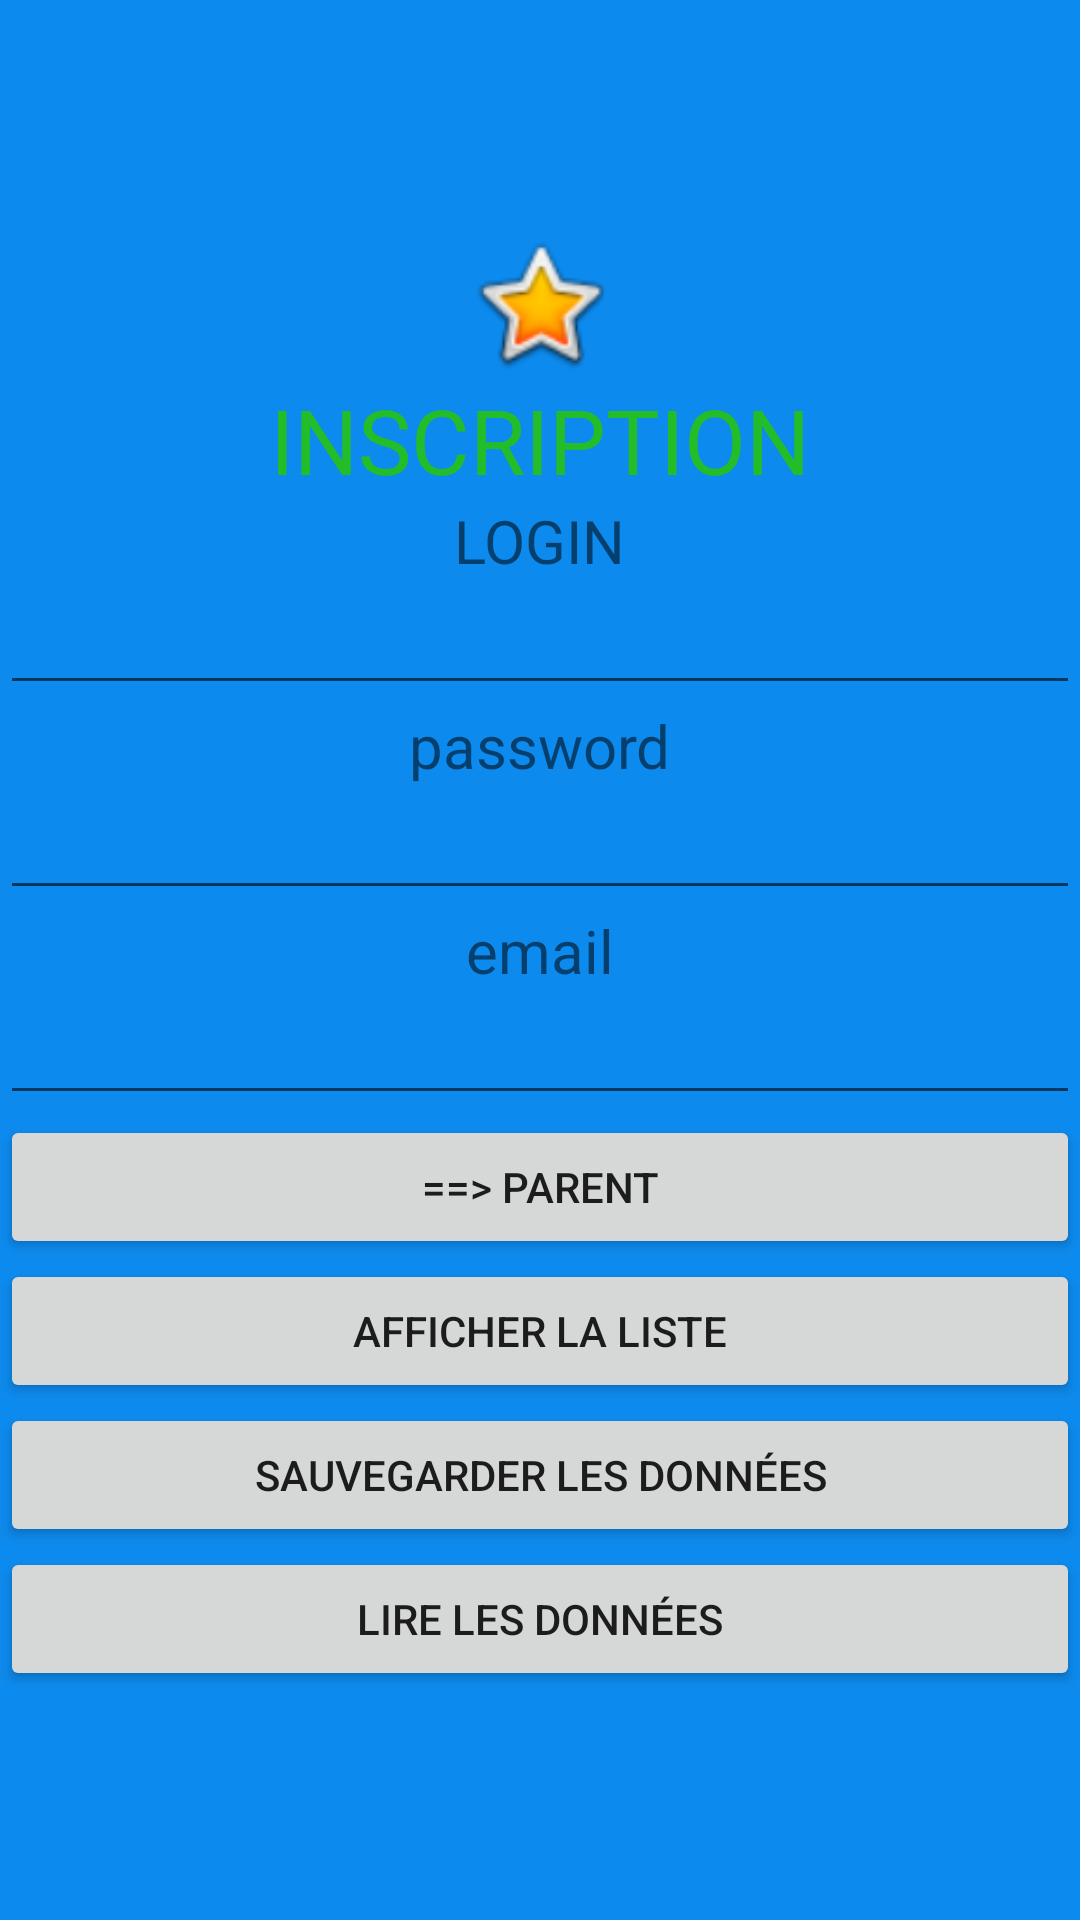

Point at icon controls on the screen. Image size 1080px×1920px, points as (x=x, y=y).
star on: (x=541, y=305)
